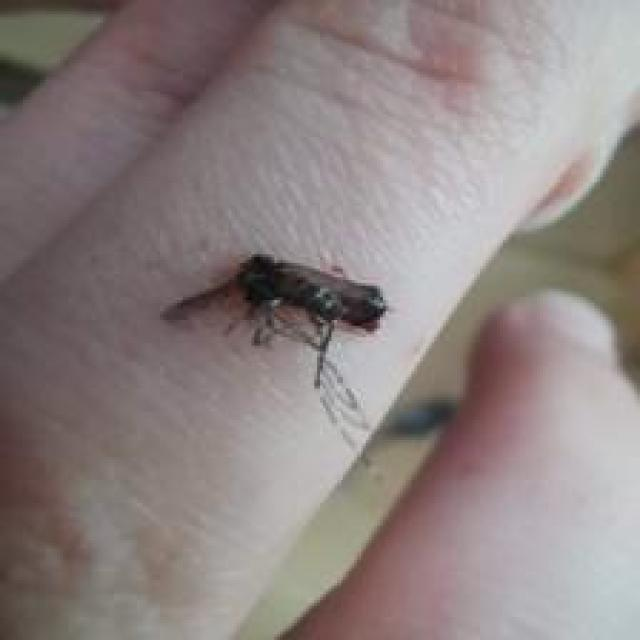Aedes albopictus: (159, 250, 390, 390)
